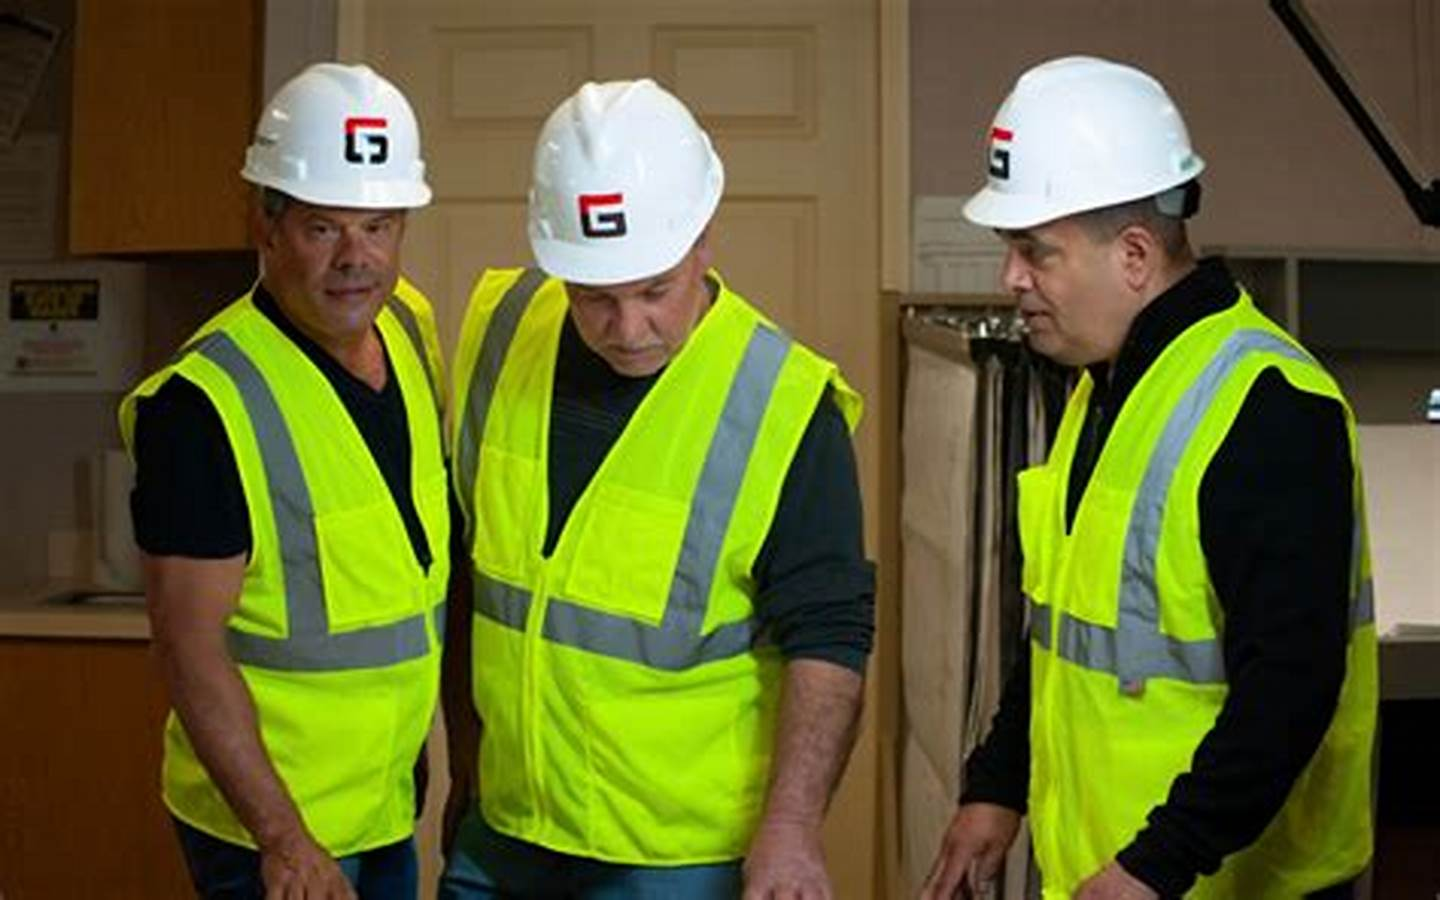Helmet: (951, 33, 1236, 377), (501, 34, 757, 410), (229, 45, 465, 365)
Reflective vest: (447, 263, 866, 868), (1010, 282, 1392, 900), (117, 273, 462, 860)
